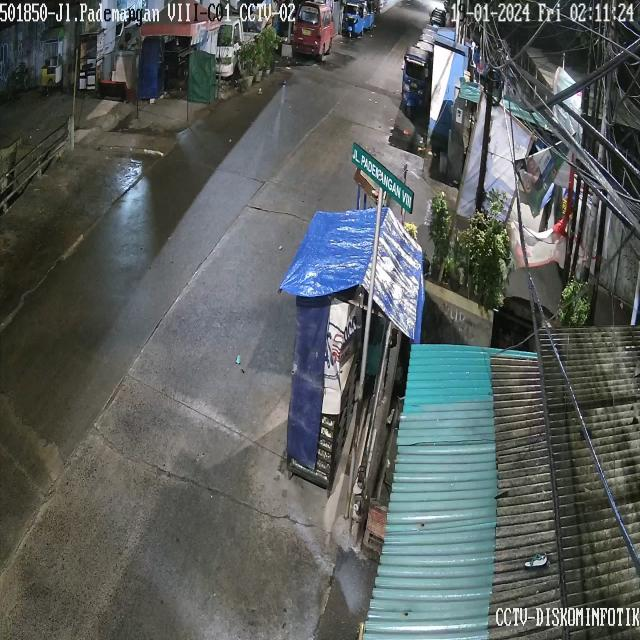Terpal: (273, 206, 372, 301)
